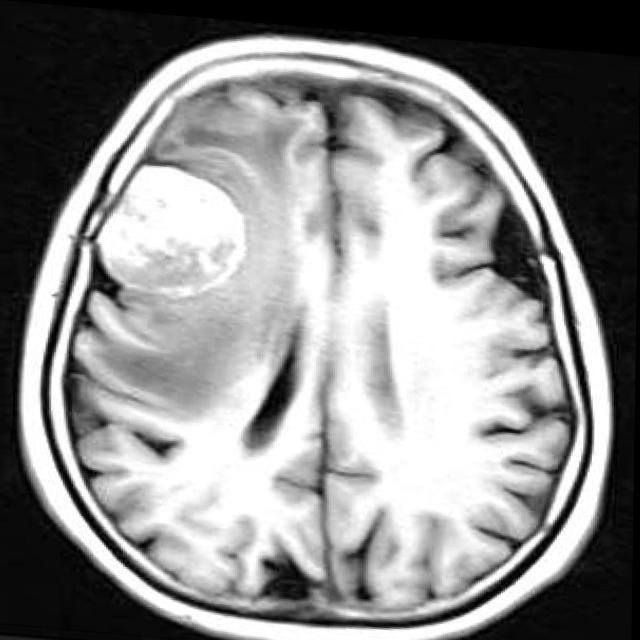Tumor: (99, 162, 241, 288)
